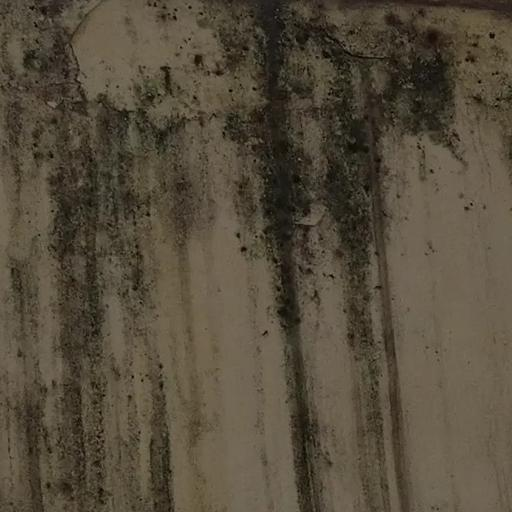algae: (16, 4, 472, 512)
